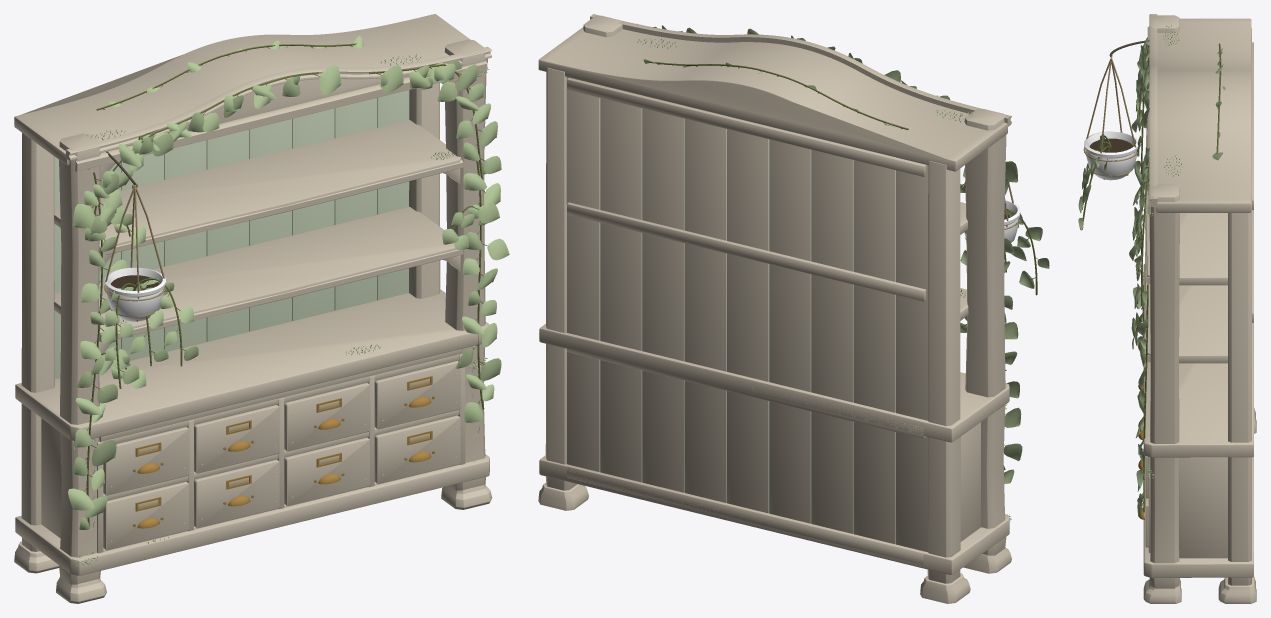
File: CM_MasterMedicineCabinet01.fbx
3 views of the same model, side by side, from view 1: azimuth 30°, elevation 25°; view 2: azimuth 150°, elevation 25°; view 3: azimuth 270°, elevation 25° (orthographic). The views are drawn at different scales.
Visible parts, largest first — view 1: CM_MMC01_MainStructure, CM_MMC01_Shelves, CM_MMC01_Drawers, CM_MMC01_Backing, CM_MMC01_TrailingVines, CM_MMC01_HangingPlanter, CM_MMC01_Hardware, CM_MMC01_Moss; view 2: CM_MMC01_Backing, CM_MMC01_MainStructure, CM_MMC01_Shelves, CM_MMC01_TrailingVines, CM_MMC01_HangingPlanter; view 3: CM_MMC01_MainStructure, CM_MMC01_Shelves, CM_MMC01_TrailingVines, CM_MMC01_HangingPlanter, CM_MMC01_Backing, CM_MMC01_Drawers, CM_MMC01_Moss.
Boxes of the visible parts, x1,y1,x2,y2 form: CM_MMC01_MainStructure: (14,14,492,603); CM_MMC01_Shelves: (15,120,489,440); CM_MMC01_Drawers: (103,360,460,550); CM_MMC01_Backing: (54,90,409,379); CM_MMC01_TrailingVines: (68,36,509,529); CM_MMC01_HangingPlanter: (104,151,198,388); CM_MMC01_Hardware: (133,376,434,528); CM_MMC01_Moss: (72,53,489,566); CM_MMC01_Backing: (566,77,928,564); CM_MMC01_MainStructure: (538,14,1011,603); CM_MMC01_Shelves: (539,202,1009,442); CM_MMC01_TrailingVines: (637,23,1022,483); CM_MMC01_HangingPlanter: (960,183,1049,295); CM_MMC01_MainStructure: (1143,14,1256,603); CM_MMC01_Shelves: (1143,120,1253,457); CM_MMC01_TrailingVines: (1129,37,1225,516); CM_MMC01_HangingPlanter: (1078,40,1149,230); CM_MMC01_Backing: (1251,42,1253,551); CM_MMC01_Drawers: (1144,456,1148,547); CM_MMC01_Moss: (1143,24,1182,478).
Bounding box in the file's own units: 1.88 × 1.94 × 0.7334.
